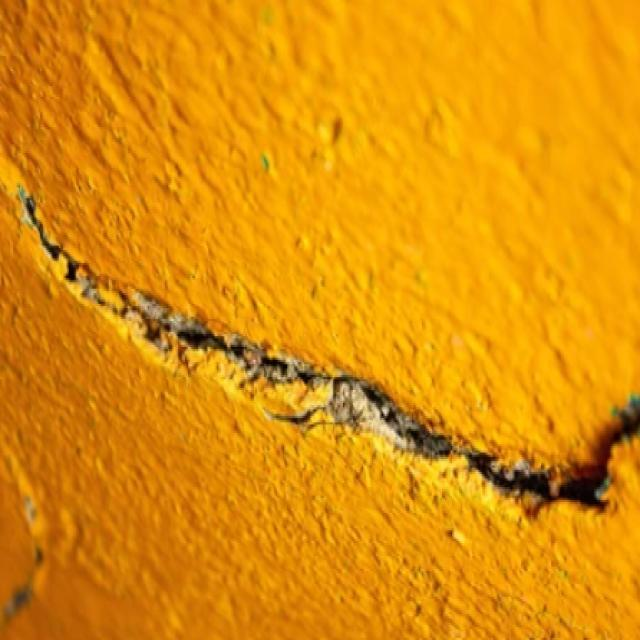curved crack: (19, 188, 639, 509)
